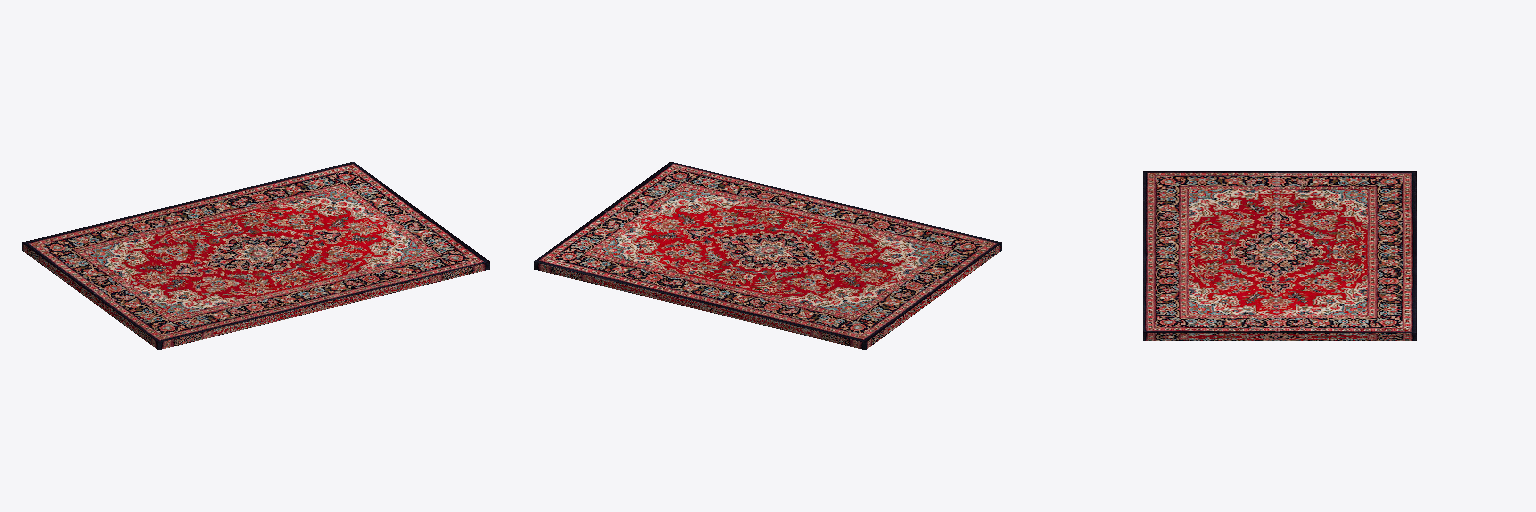
3 renders of one model, left to right at view 1: azimuth 30°, elevation 25°; view 2: azimuth 150°, elevation 25°; view 3: azimuth 270°, elevation 25°, orthographic.
Visible parts, largest first — view 1: Cube; view 2: Cube; view 3: Cube.
Boxes of the visible parts, box(x1,y1,x2,y2) form: Cube: box(22, 162, 489, 349); Cube: box(534, 162, 1001, 349); Cube: box(1143, 171, 1416, 340).
Size of the model in its own units: 5.39 by 0.1186 by 3.85.
Materials: 1 (1 with a texture image).